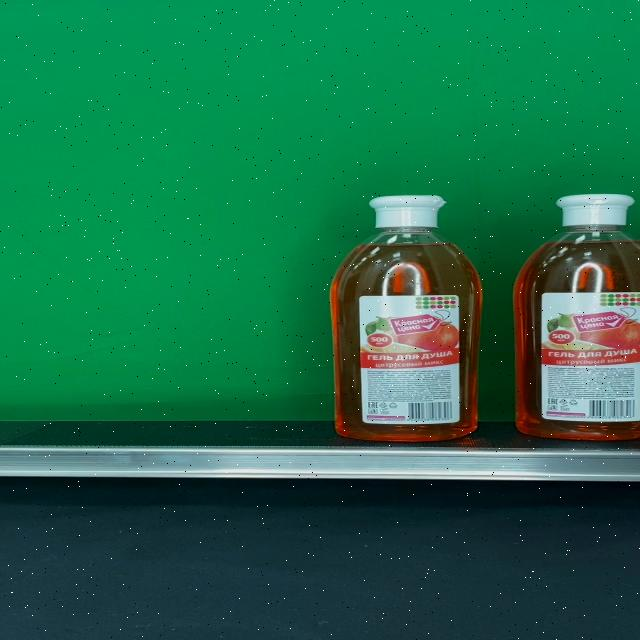Bottle: (330, 194, 482, 440), (513, 193, 640, 441)
Cap: (369, 195, 447, 229), (554, 194, 636, 226)
